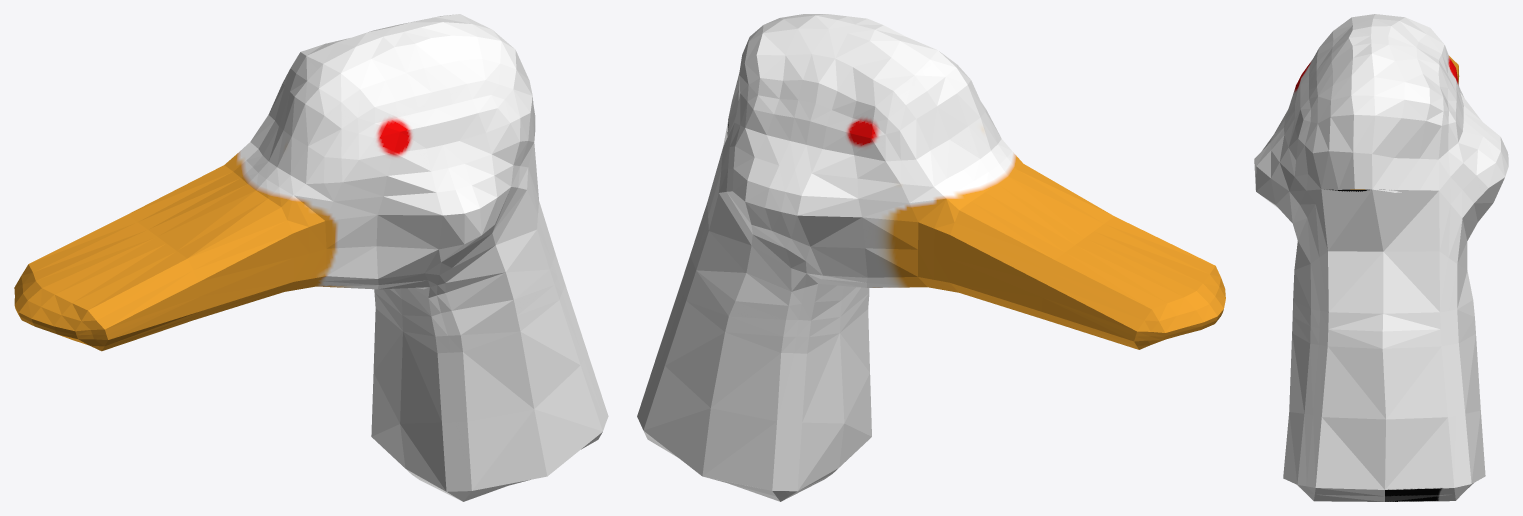
File: duck_head.fbx
The picture shows the model from 3 angles, left to right: view 1: azimuth 30°, elevation 25°; view 2: azimuth 150°, elevation 25°; view 3: azimuth 270°, elevation 25°; orthographic projection. The views are drawn at different scales.
Parts seen in each view (by area): view 1: Cube; view 2: Cube; view 3: Cube.
Boxes of the visible parts, bbox=[...] form: Cube: bbox=[14, 14, 608, 501]; Cube: bbox=[637, 14, 1225, 501]; Cube: bbox=[1254, 14, 1508, 501].
Size of the model in its own units: 814 by 643 by 350.
1 material, 1 textured.
